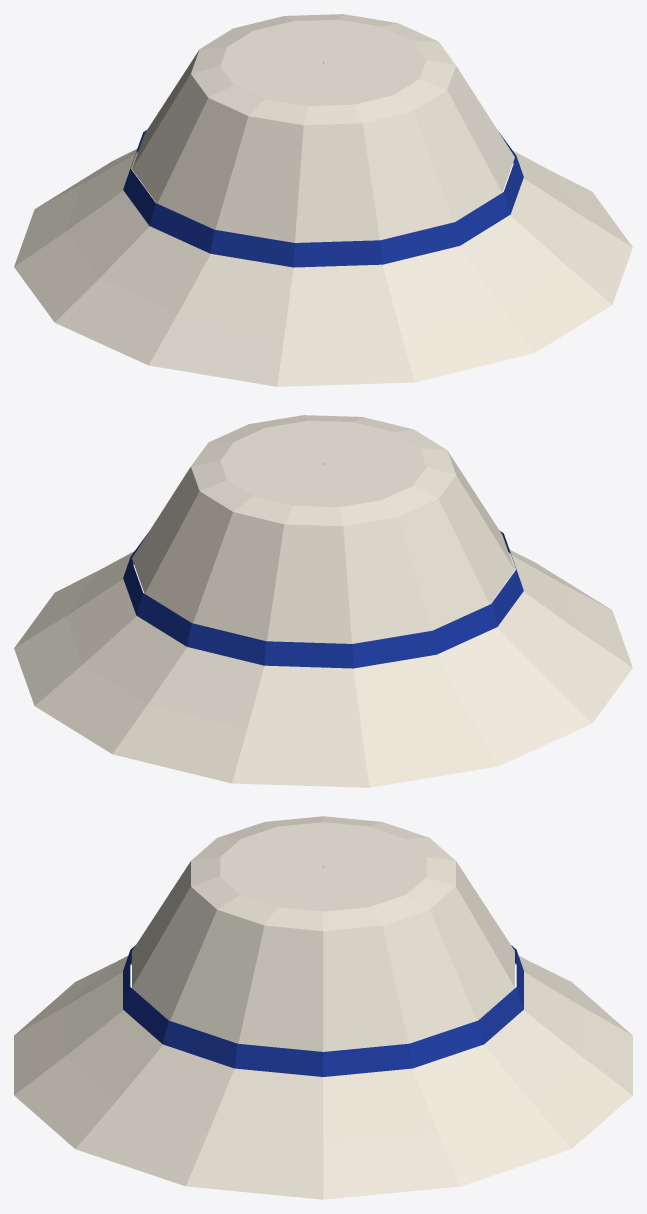
File: hat_04_bucket_safari.glb
3 views of the same model, one above another, from view 1: azimuth 30°, elevation 25°; view 2: azimuth 150°, elevation 25°; view 3: azimuth 270°, elevation 25° (orthographic). The views are drawn at different scales.
Visible parts, largest first — view 1: Hat04_Brim, Hat04_Crown, Hat04_Ribbon; view 2: Hat04_Brim, Hat04_Crown, Hat04_Ribbon; view 3: Hat04_Brim, Hat04_Crown, Hat04_Ribbon.
Part boxes in pixels (left/top/right/bottom): Hat04_Brim: left=14, top=149, right=632, bottom=386; Hat04_Crown: left=132, top=14, right=514, bottom=242; Hat04_Ribbon: left=123, top=130, right=523, bottom=267; Hat04_Brim: left=14, top=550, right=632, bottom=787; Hat04_Crown: left=132, top=415, right=514, bottom=643; Hat04_Ribbon: left=123, top=531, right=523, bottom=668; Hat04_Brim: left=14, top=955, right=632, bottom=1199; Hat04_Crown: left=132, top=816, right=514, bottom=1051; Hat04_Ribbon: left=123, top=945, right=523, bottom=1076.
Bounding box in the file's own units: 0.84 × 0.29 × 0.8189.
